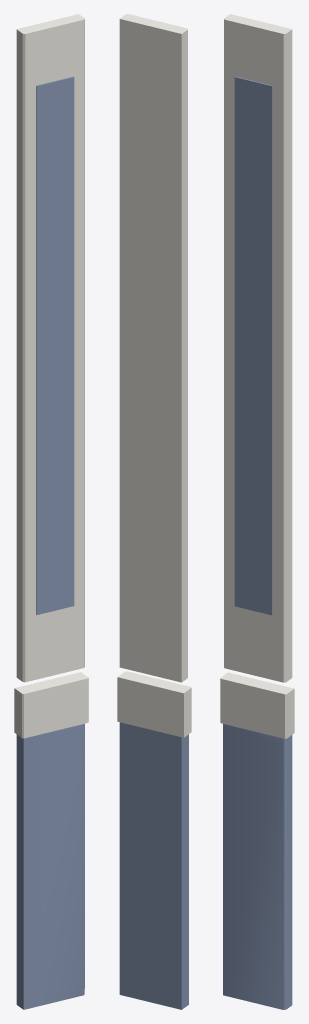
Rendered from pilaster_g_d.glb.
The picture shows the model from 3 angles, left to right: view 1: azimuth 30°, elevation 25°; view 2: azimuth 150°, elevation 25°; view 3: azimuth 330°, elevation 25°; orthographic projection.
Parts seen in each view (by area): view 1: pilaster_g_d_acc_d, pilaster_g_d_trim; view 2: pilaster_g_d_trim, pilaster_g_d_acc_d; view 3: pilaster_g_d_acc_d, pilaster_g_d_trim.
Part boxes in pixels (bbox=[...]): pilaster_g_d_acc_d: bbox=[16, 76, 84, 1009]; pilaster_g_d_trim: bbox=[14, 14, 88, 738]; pilaster_g_d_trim: bbox=[117, 14, 191, 737]; pilaster_g_d_acc_d: bbox=[119, 722, 188, 1009]; pilaster_g_d_acc_d: bbox=[223, 76, 292, 1009]; pilaster_g_d_trim: bbox=[220, 14, 294, 738].
Size of the model in its own units: 0.32 by 4.5 by 0.07.
